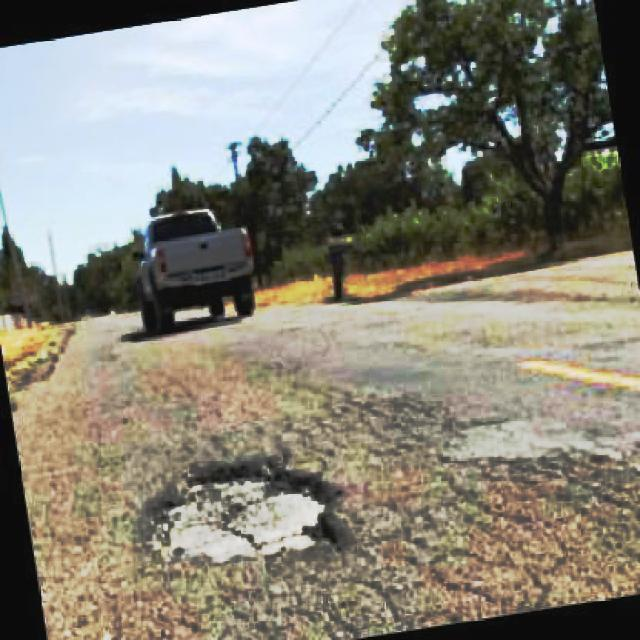pothole: (143, 451, 345, 562)
